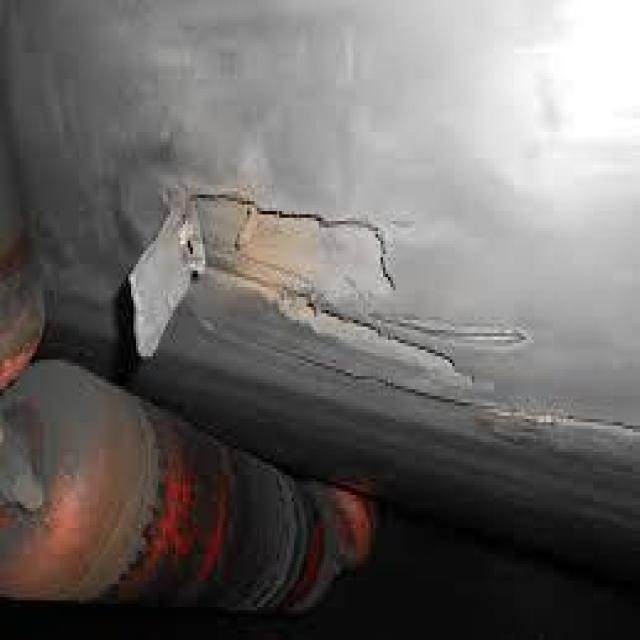Tear: (121, 184, 473, 408)
